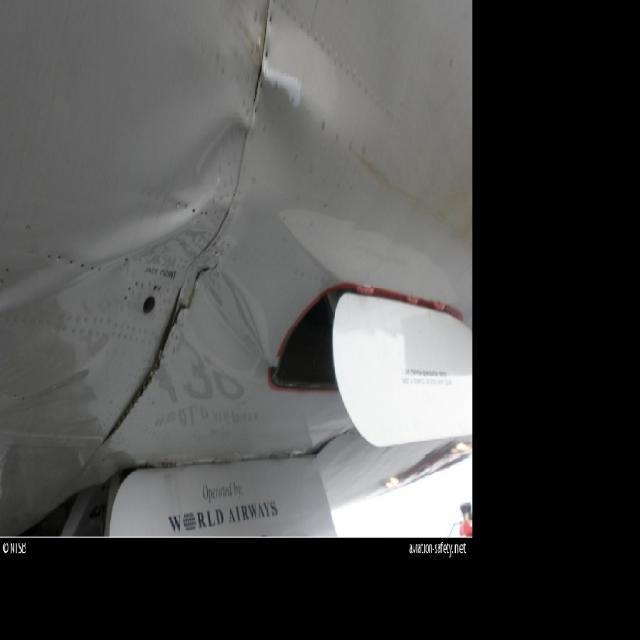crack: (176, 252, 228, 325)
dent: (2, 122, 247, 312)
